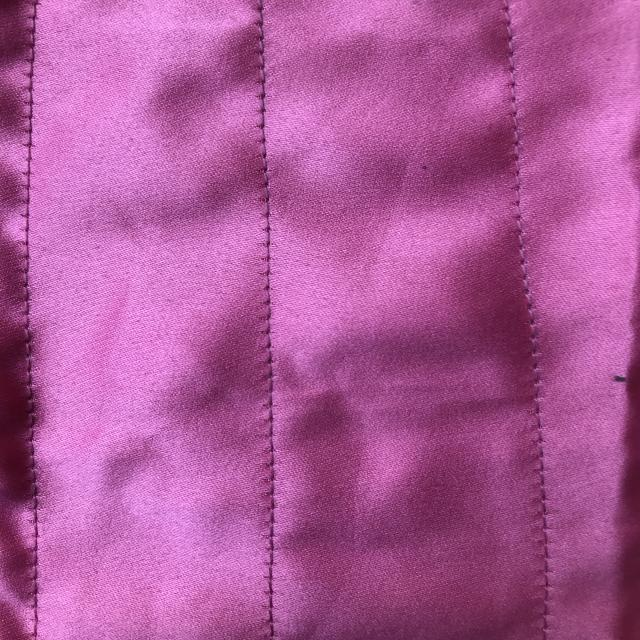good: (503, 193, 570, 376), (248, 217, 293, 371)
